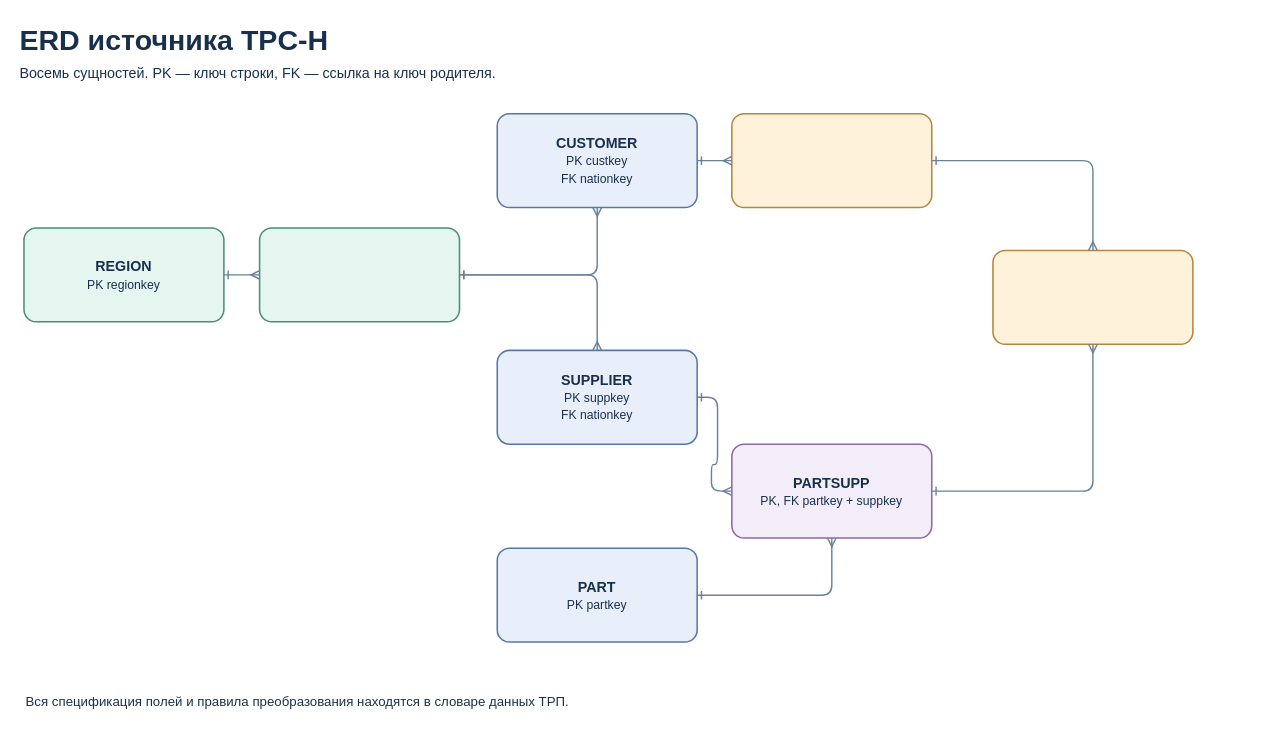
This 1277x730 diagram has some shape labels left out. Each missing label, with the centre of its shape:
"LINEITEM PK orderkey + linenumber FK orderkey FK (partkey, suppkey)" belongs at (x=1092, y=297).
"NATION PK nationkey FK regionkey" belongs at (x=359, y=274).
"ORDERS PK orderkey FK custkey" belongs at (x=831, y=160).
